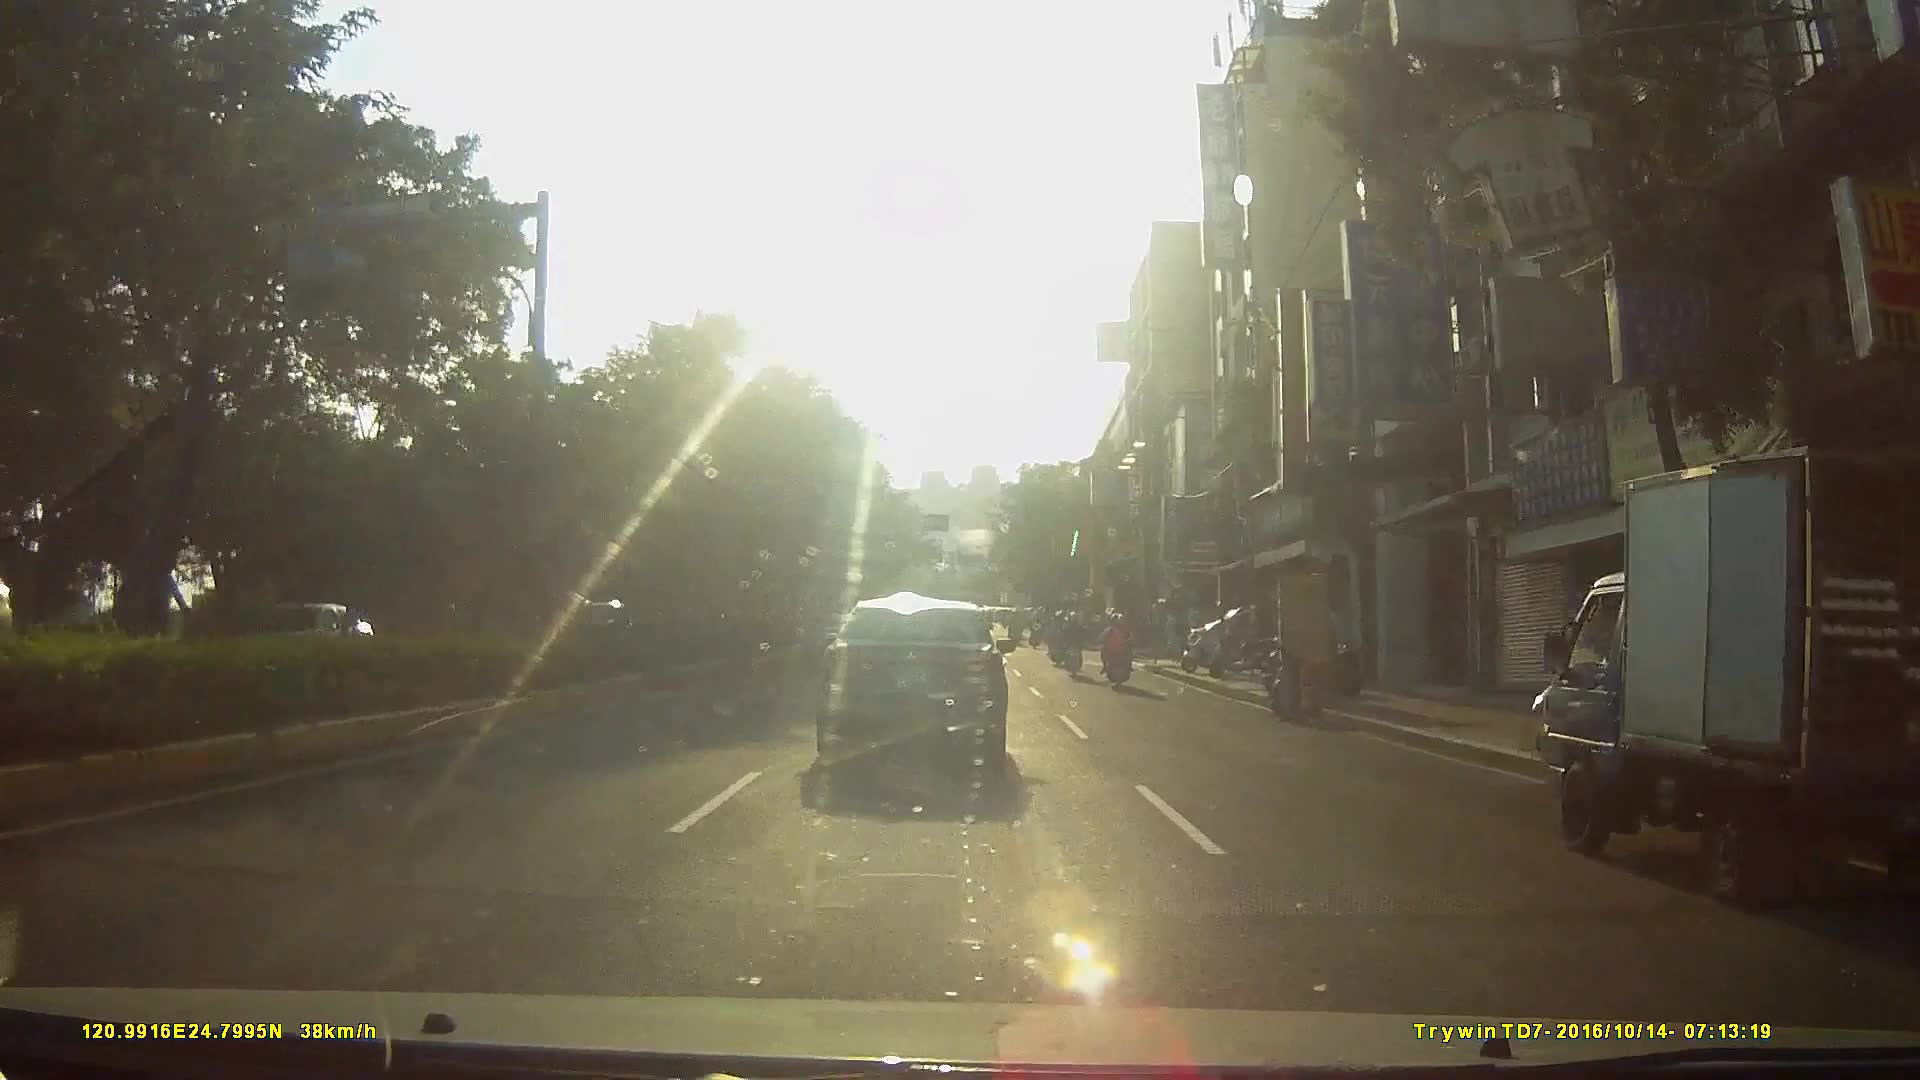rider: (1101, 617, 1136, 695), (1061, 611, 1086, 681), (1050, 609, 1071, 669)
vehicle: (1531, 437, 1920, 887), (810, 595, 1019, 783), (227, 599, 375, 668)
